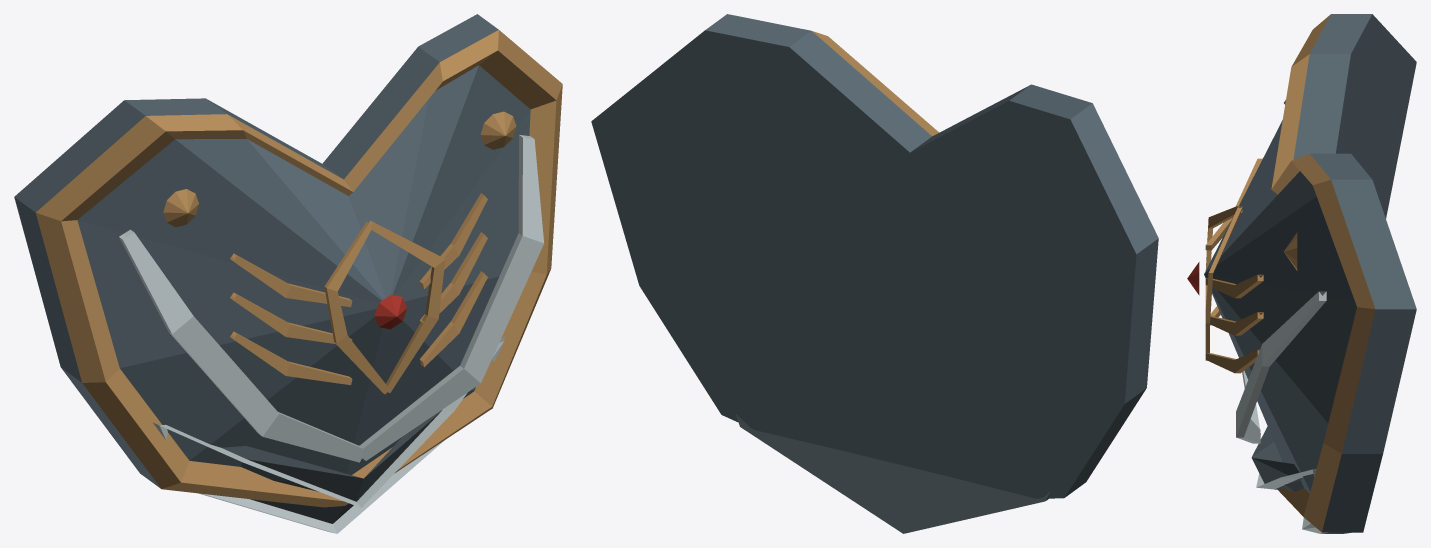
The model's file is ranger_chest.glb.
3 views of the same model, side by side, from view 1: azimuth 30°, elevation 25°; view 2: azimuth 150°, elevation 25°; view 3: azimuth 270°, elevation 25° (orthographic). The views are drawn at different scales.
Visible parts, largest first — view 1: ranger_chest; view 2: ranger_chest; view 3: ranger_chest.
Boxes of the visible parts, x1,y1,x2,y2 form: ranger_chest: [14, 14, 562, 533]; ranger_chest: [591, 14, 1158, 533]; ranger_chest: [1187, 14, 1416, 533].
Size of the model in its own units: 0.382 by 0.315 by 0.15.
